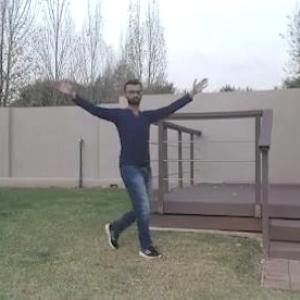takeoff: (51, 72, 207, 263)
